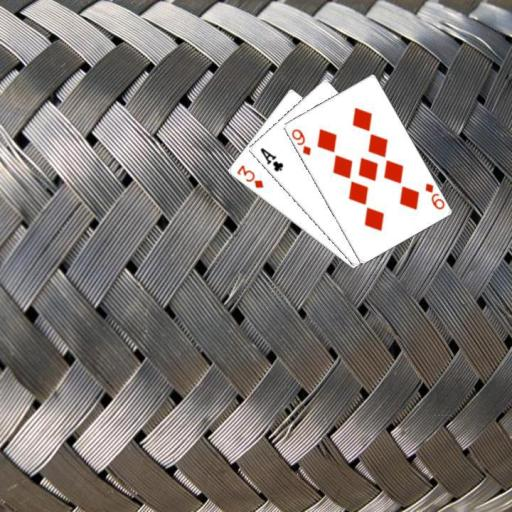3D: (233, 161, 265, 190)
9D: (288, 125, 312, 157), (422, 180, 446, 211)
AC: (257, 144, 284, 173)
